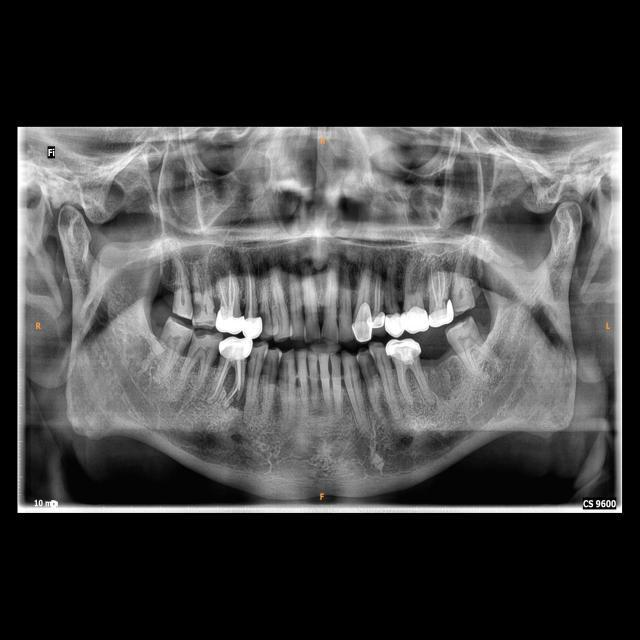dentin-curugu: (189, 297, 215, 326)
kanal-tedavisi: (212, 358, 242, 408), (215, 271, 240, 310), (427, 261, 447, 305), (243, 264, 258, 315), (371, 271, 383, 314)
kaplama: (384, 338, 421, 364), (218, 334, 253, 359), (402, 305, 430, 335), (213, 310, 246, 334), (353, 303, 372, 342), (427, 306, 456, 327), (383, 313, 406, 336), (244, 312, 262, 341), (371, 312, 385, 331)
